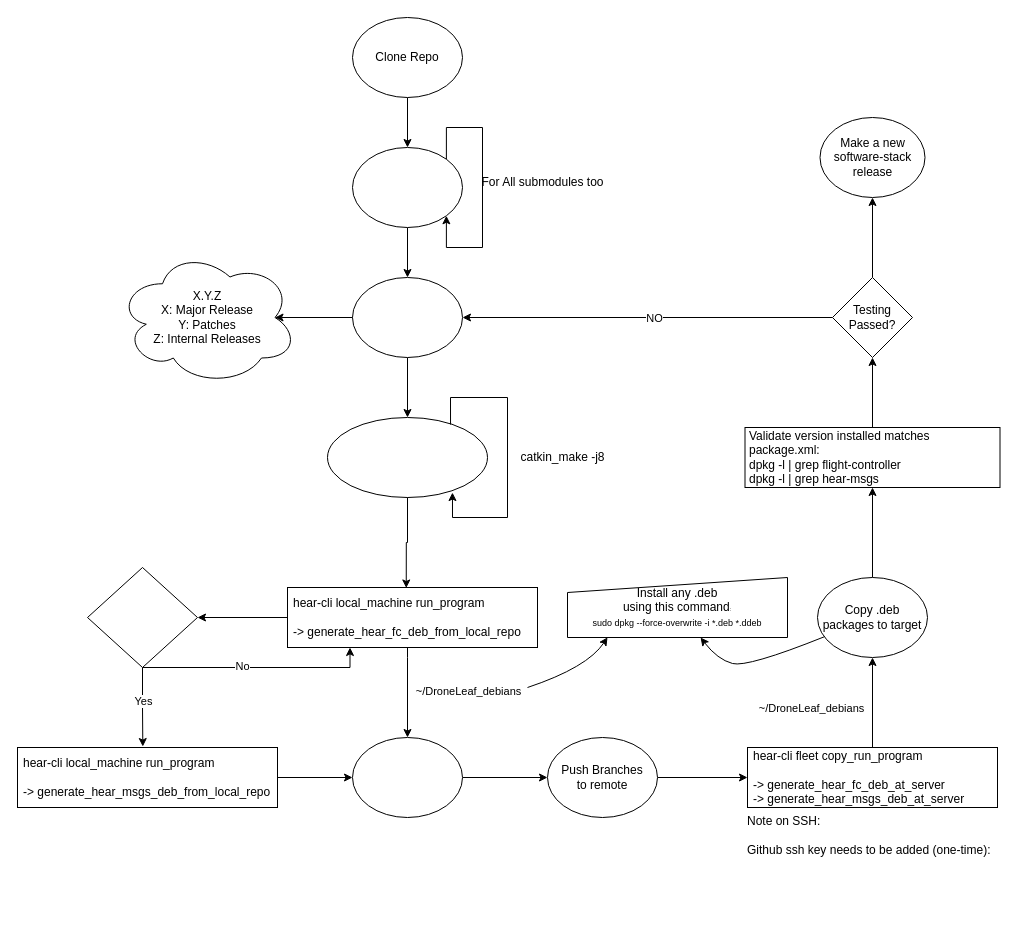
Image size: 1018x945. Some labels were removed from this diagram. Here are the shapes that lost their labels. From the top down, the centre of each, then its label:
the point at 407,187: Create branch feature/* bugfix/*
the point at 407,317: Edit package.xml version number
the point at 407,457: Write code, debug, iterate
the point at 142,617: HEAR_Msgs Changed?
the point at 407,777: Functional Test (SITL)
